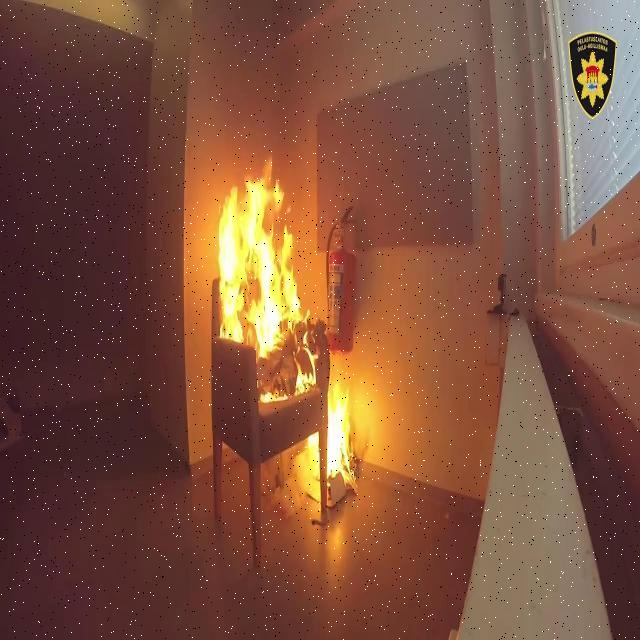fire: (204, 179, 321, 414), (306, 424, 356, 510)
